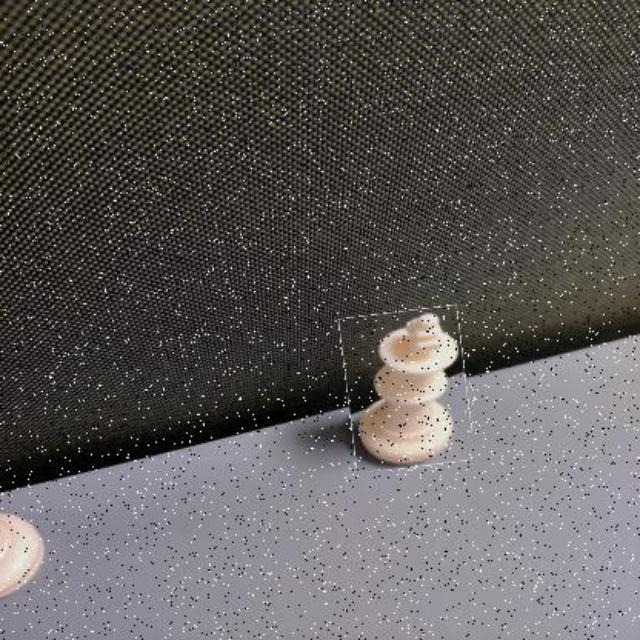white-king: (344, 307, 470, 468)
